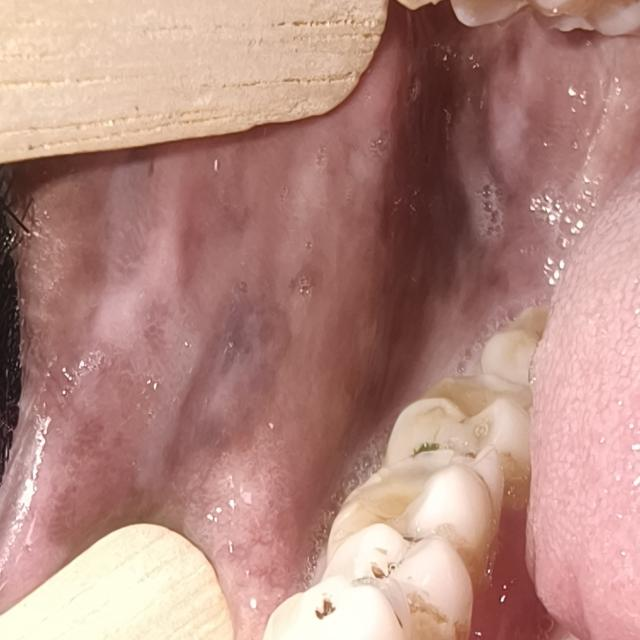leukoplakia-like-detection: (162, 293, 298, 452)
processing_area: (2, 17, 637, 633)
